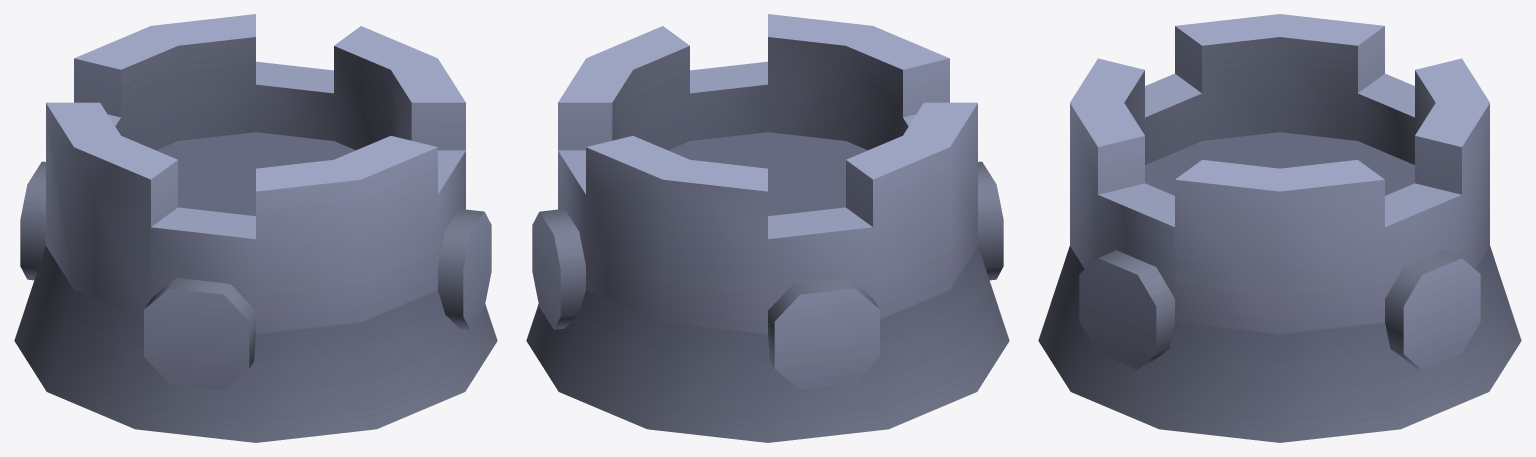
File: kenney-tower-defense-tower-round-top-a.glb
3 renders of one model, left to right at view 1: azimuth 30°, elevation 25°; view 2: azimuth 150°, elevation 25°; view 3: azimuth 270°, elevation 25°, orthographic.
Parts seen in each view (by area): view 1: tower-round-top-a; view 2: tower-round-top-a; view 3: tower-round-top-a.
Part boxes in pixels (box(x1,y1,x2,y2)): tower-round-top-a: box(14, 14, 497, 442); tower-round-top-a: box(526, 14, 1009, 442); tower-round-top-a: box(1038, 14, 1521, 442).
Size of the model in its own units: 0.92 by 0.5001 by 0.92.
Materials: 1 (1 with a texture image).
